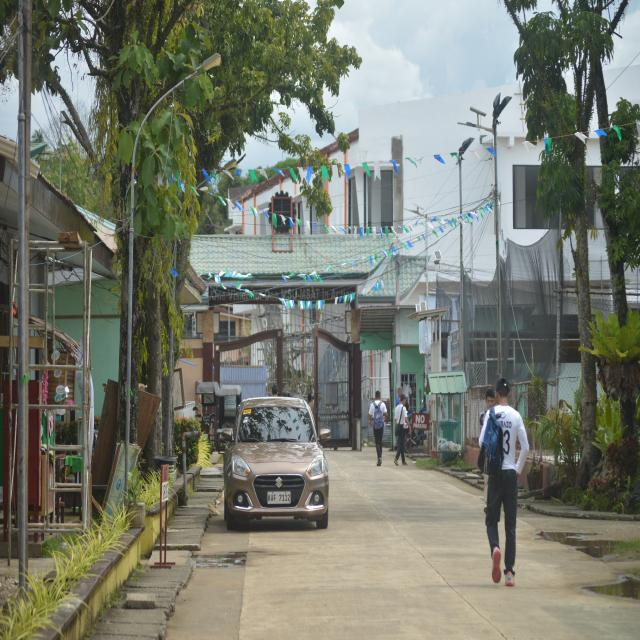person: (486, 379, 528, 586), (369, 391, 388, 466), (394, 394, 409, 465), (484, 474, 488, 513)
